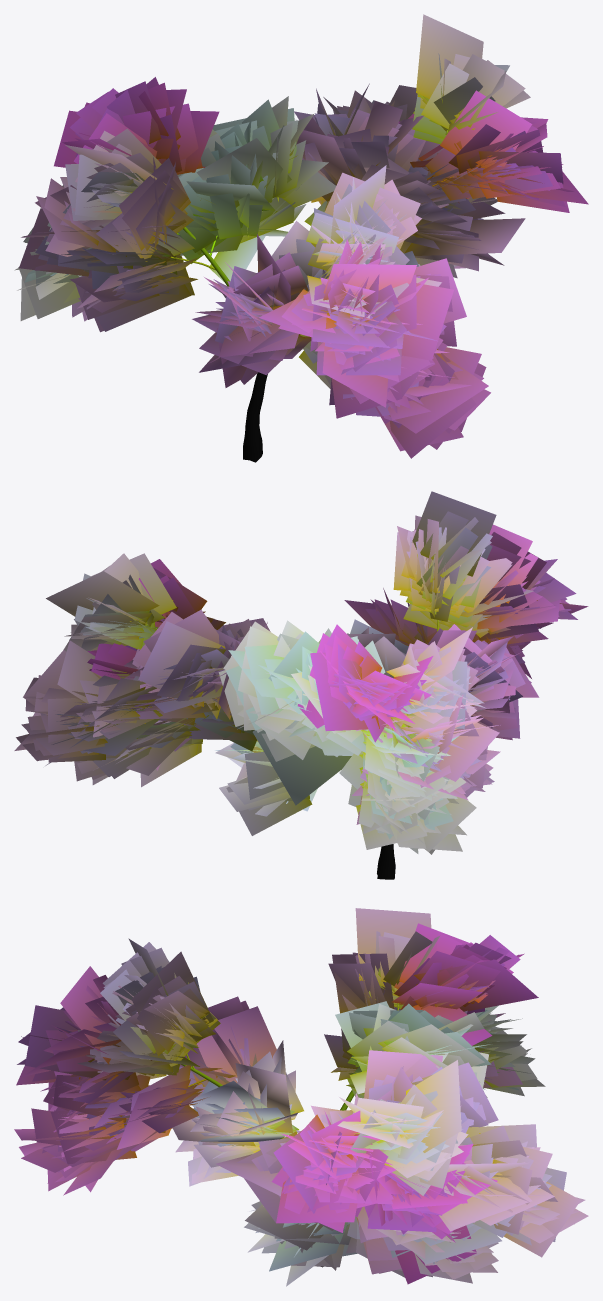
Rendered from tree_cherry_c.glb.
The picture shows the model from 3 angles, top to bottom: view 1: azimuth 30°, elevation 25°; view 2: azimuth 150°, elevation 25°; view 3: azimuth 270°, elevation 25°; orthographic projection. The views are drawn at different scales.
Parts seen in each view (by area): view 1: tree_cherry_c; view 2: tree_cherry_c; view 3: tree_cherry_c.
Part boxes in pixels (x1=…): tree_cherry_c: x1=14, y1=14, x2=588, y2=462; tree_cherry_c: x1=14, y1=491, x2=588, y2=879; tree_cherry_c: x1=14, y1=908, x2=588, y2=1286.
Size of the model in its own units: 12.59 by 8.55 by 13.36.
